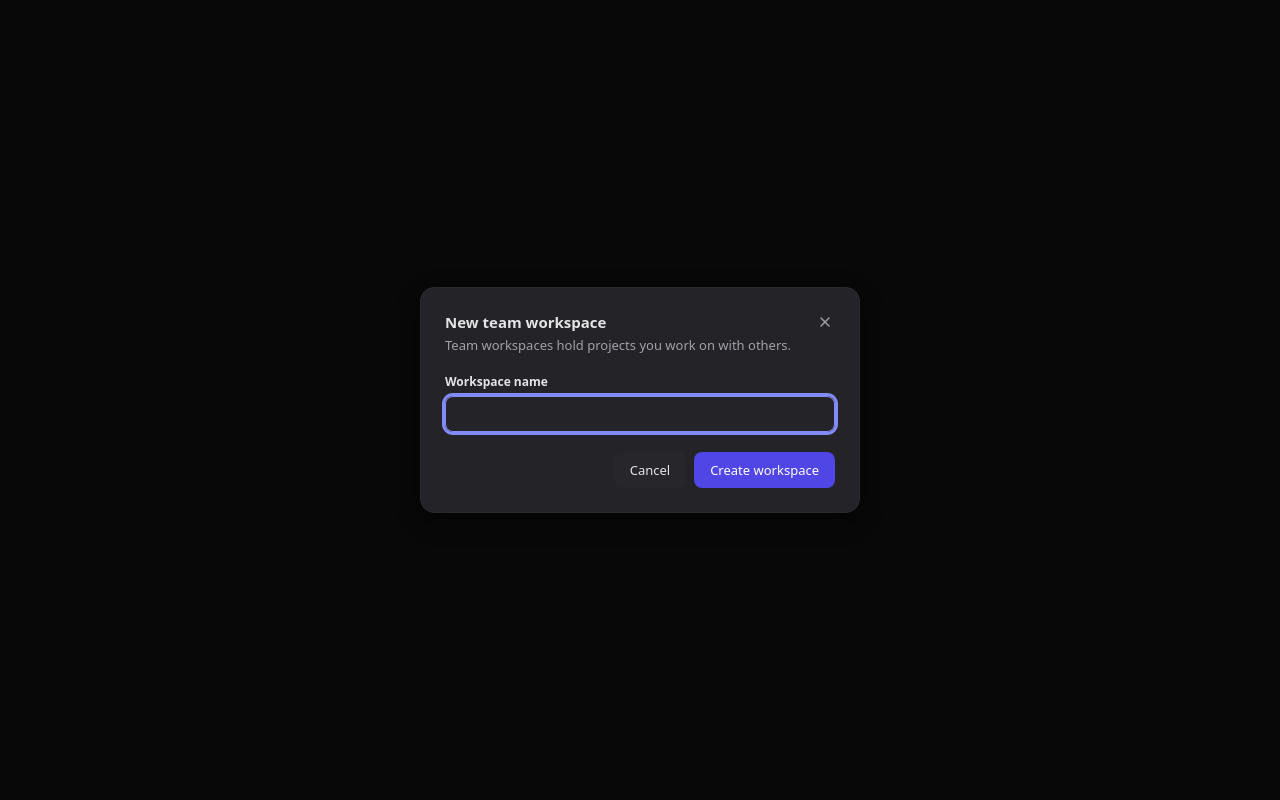
Test case: dialogs › validates the workspace name
This screenshot has width=1280, height=800.
Type " a " into the field labelled "Workspace name" at (640, 414), box [445,396,835,432]
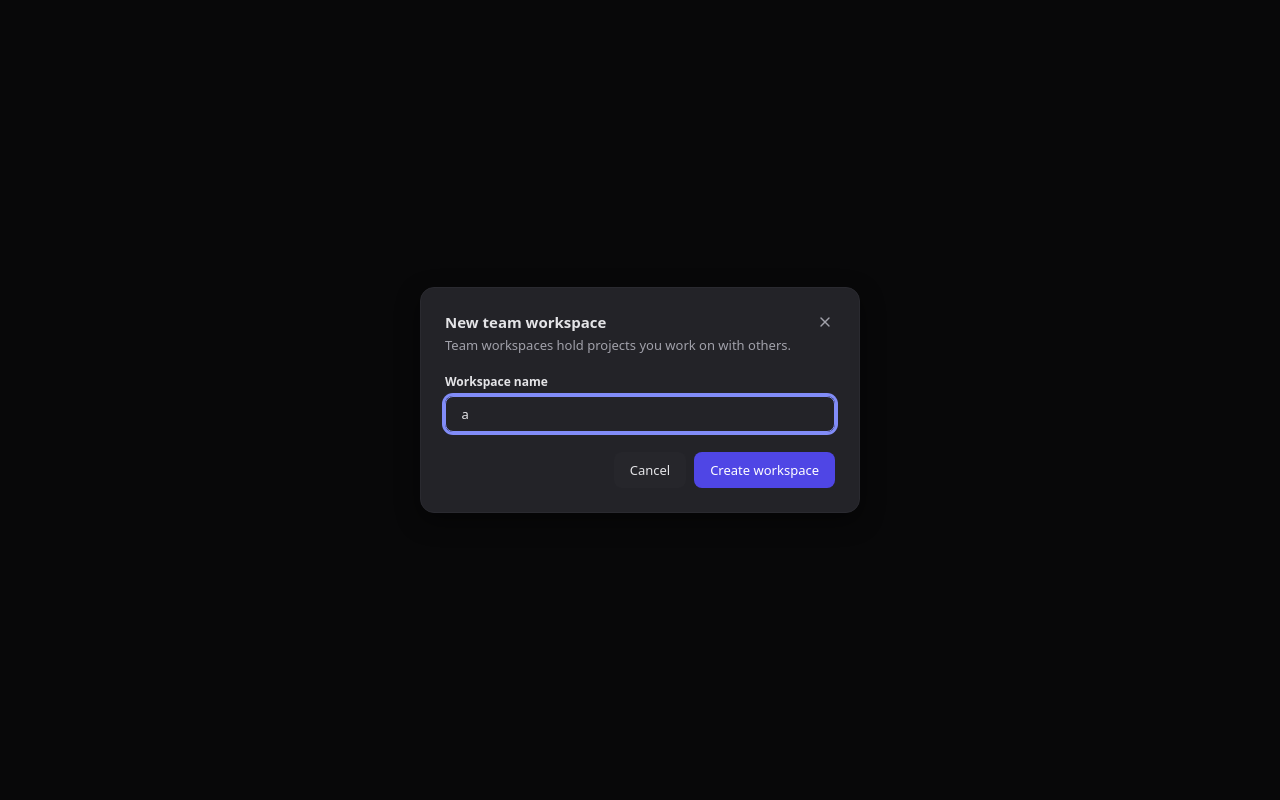
Click the button "Create workspace" at (765, 470), box [694,452,835,488]
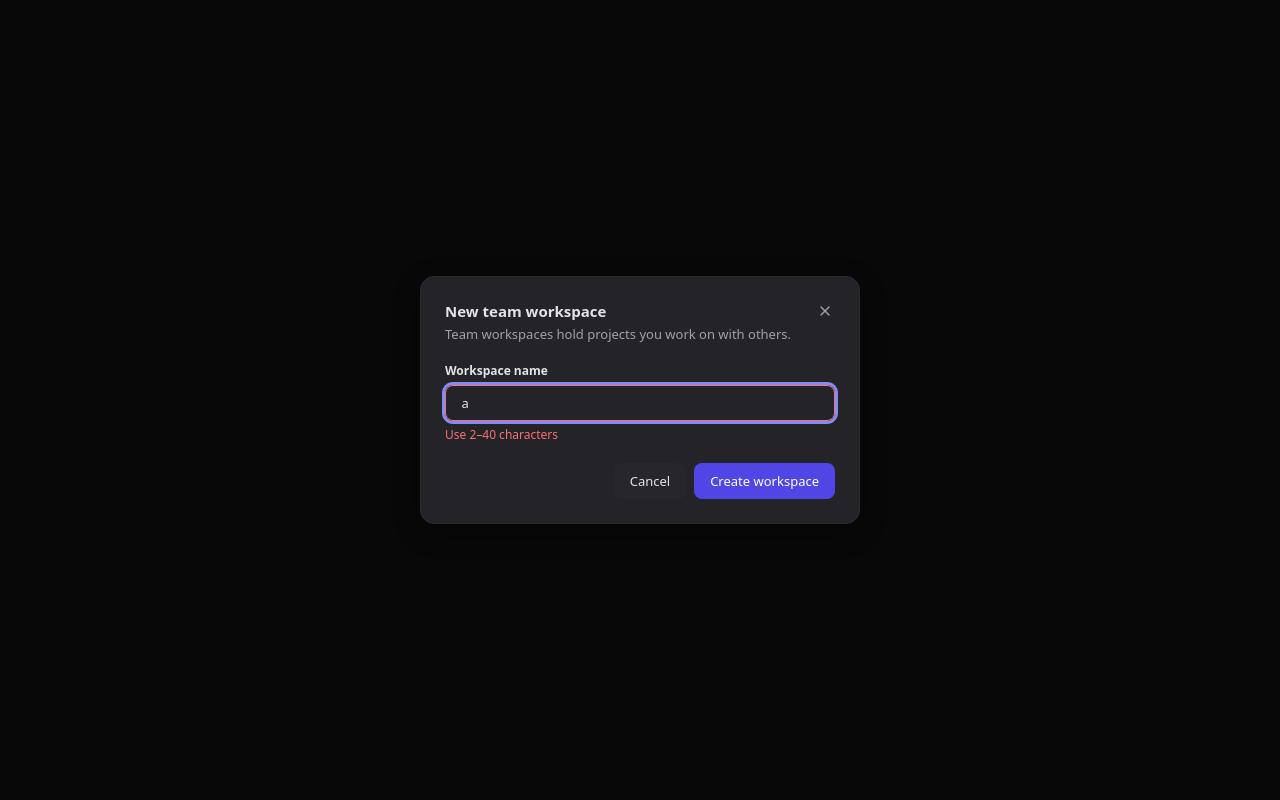
Check: the text "Use 2–40 characters" is shown, box [445,426,558,443]
